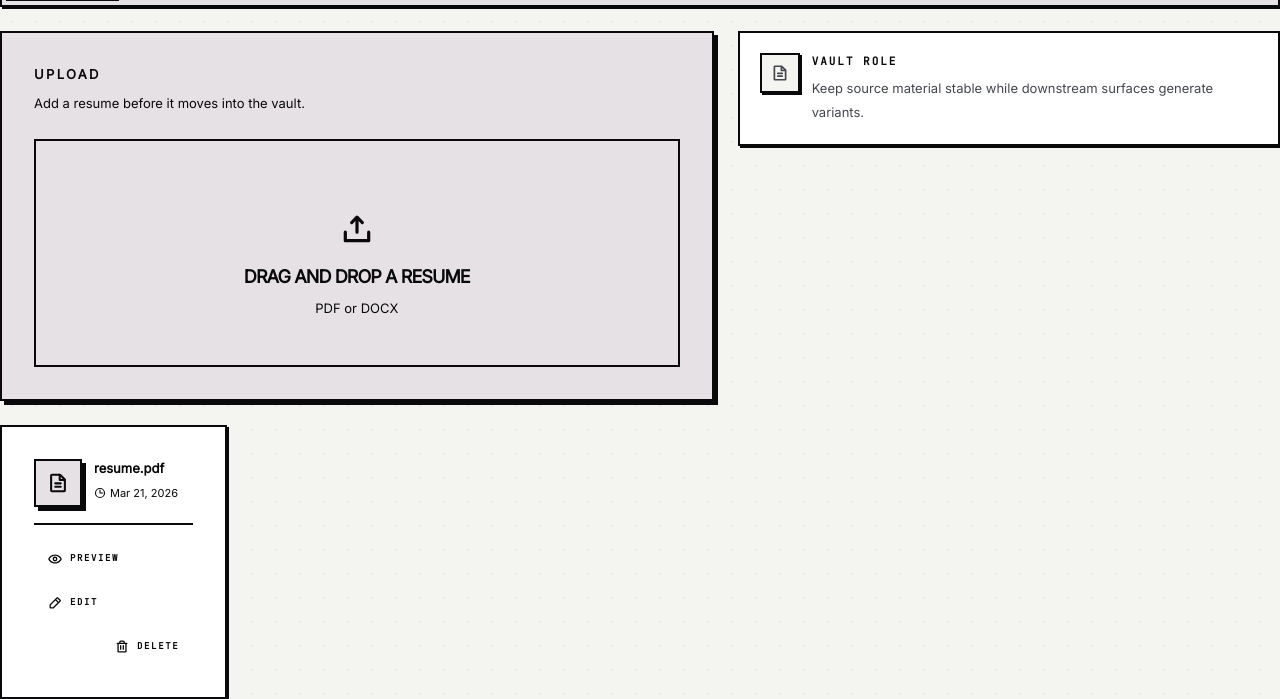
Test case: DocumentVault › opens the preview modal and shows parsed text
(page scrolled)
Expected: the text "resume.pdf" is shown, [94,460,164,476]
What coordinates should you click on to do the following:
click the button "Preview"
I would click on:
 (84, 559)
Its box is [34,541,133,577].
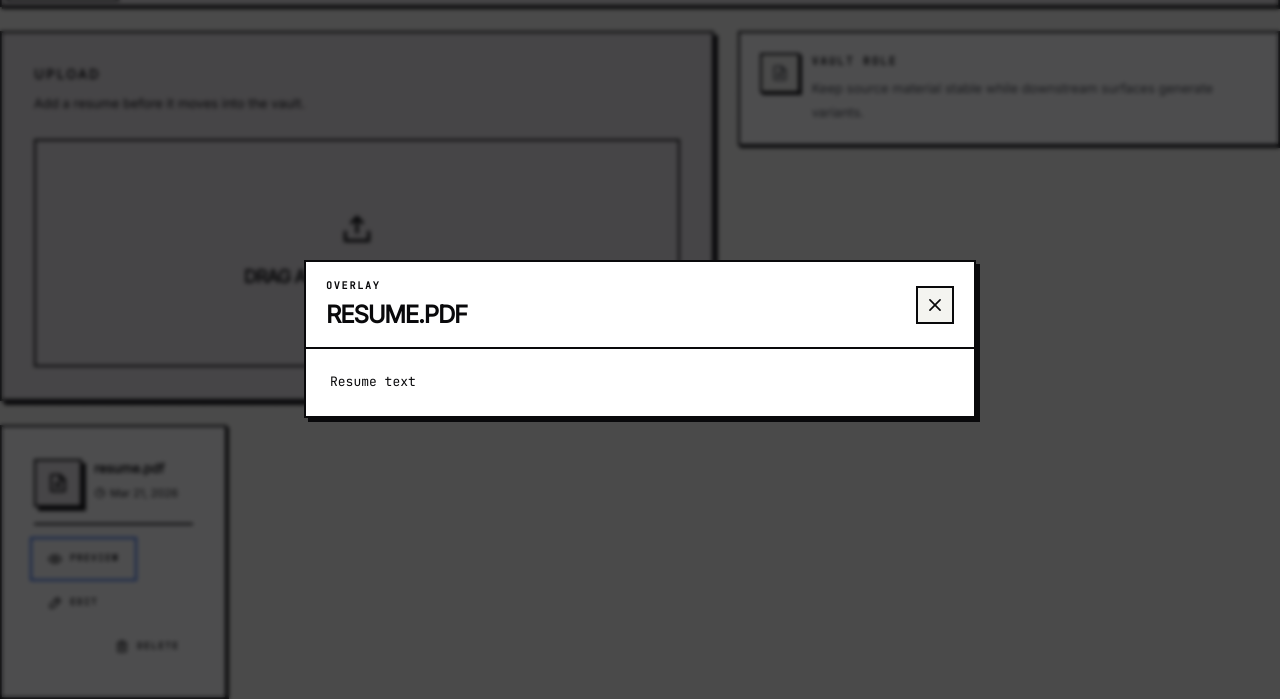
Now the dialog "resume.pdf" is shown, box [304,260,976,418]
Now the text "Resume text" is shown, box [330,373,416,390]
